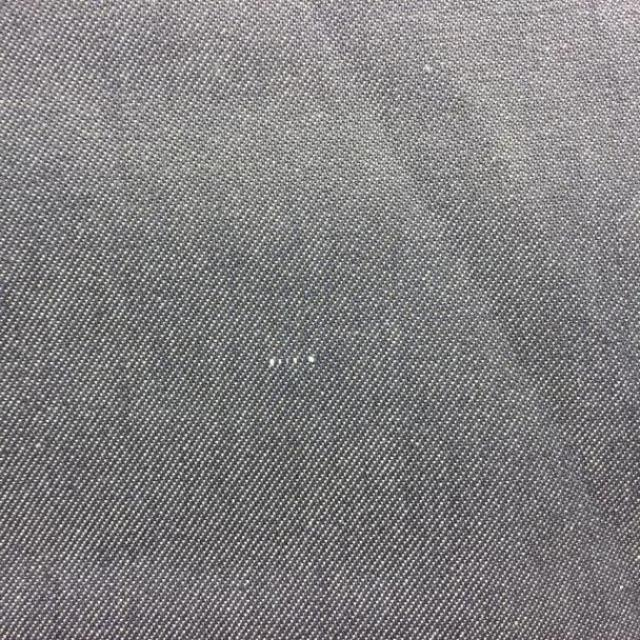Knot: (267, 355, 317, 369)
